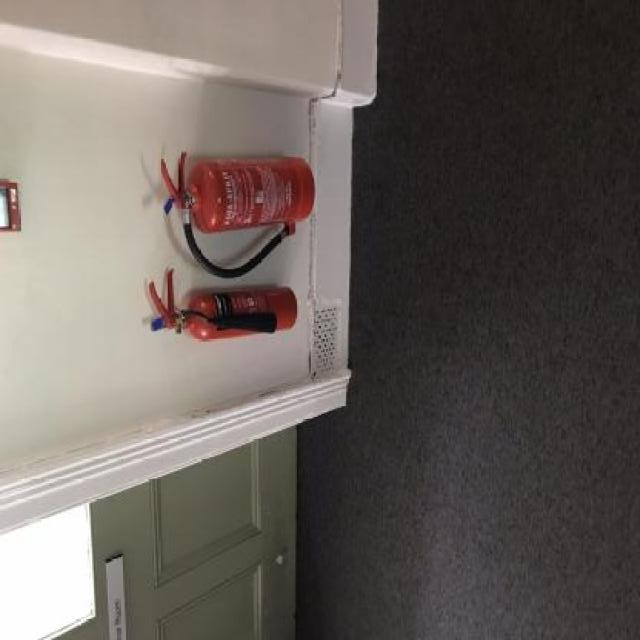fire extinguisher: (158, 150, 314, 279), (149, 269, 298, 343)
